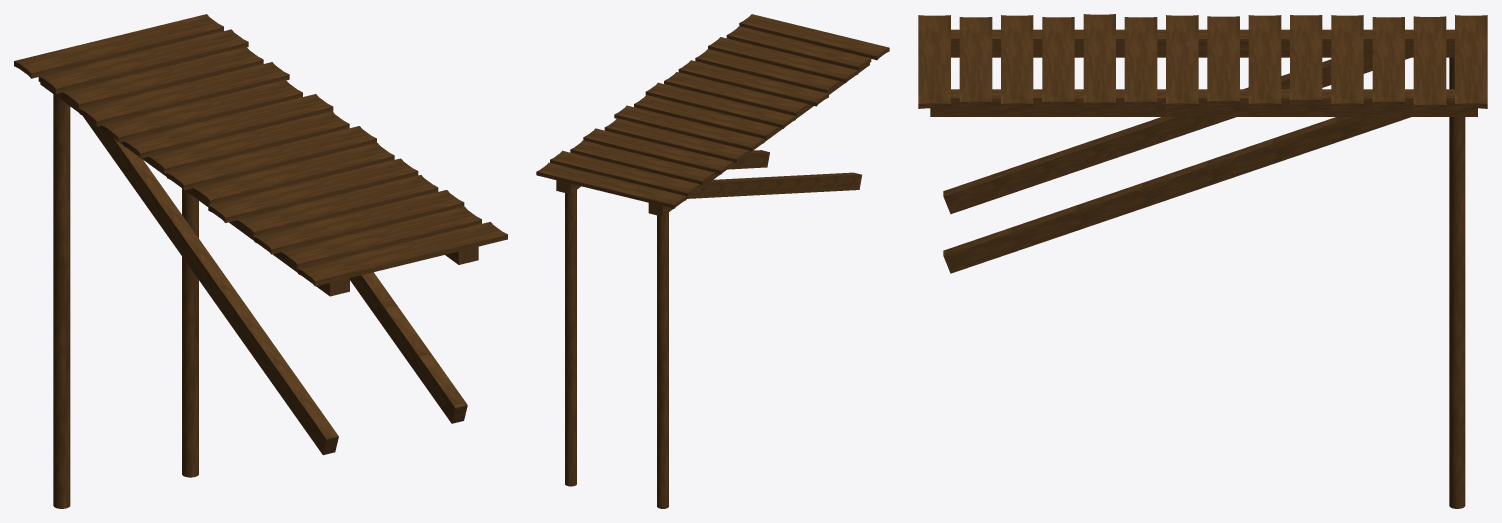
Rendered from Pier.FBX.
The picture shows the model from 3 angles, left to right: view 1: azimuth 30°, elevation 25°; view 2: azimuth 150°, elevation 25°; view 3: azimuth 270°, elevation 25°; orthographic projection. The views are drawn at different scales.
Visible parts, largest first — view 1: Box002, pole, Plank01, Plank10, Plank04, Plank11, Plank12, Plank13, Plank, Plank08, Box006, Plank07 (+7 smaller); view 2: pole001, pole, Box002, Plank, Plank13, Plank11, Plank01, Plank12, Plank10, Plank04, Plank08, Plank09 (+7 smaller); view 3: Box006, Box005, Box002, pole001, Box001, Plank10, Plank04, Plank01, Plank12, Plank13, Plank08, Plank11 (+7 smaller).
Part boxes in pixels (x1,y1,x2,y2): Box002: (83, 116, 338, 455); pole: (53, 94, 70, 508); Plank01: (298, 222, 507, 286); Plank10: (123, 94, 333, 158); Plank04: (38, 29, 248, 93); Plank11: (79, 62, 289, 126); Plank12: (254, 190, 464, 254); Plank13: (208, 158, 418, 222); Plank: (14, 14, 223, 78); Plank08: (167, 126, 376, 190); Box006: (350, 272, 467, 423); Plank07: (236, 175, 438, 237); pole001: (565, 190, 576, 486); pole: (657, 212, 668, 508); Box002: (687, 172, 861, 198); Plank: (536, 162, 686, 208); Plank13: (678, 60, 828, 106); Plank11: (583, 128, 733, 174); Plank01: (739, 14, 889, 60); Plank12: (708, 37, 858, 82); Plank10: (614, 105, 764, 151); Plank04: (550, 150, 700, 196); Plank08: (645, 82, 795, 128); Plank09: (726, 26, 871, 70); Box006: (943, 117, 1410, 273); Box005: (930, 89, 1477, 116); Box002: (943, 57, 1410, 213); pole001: (1449, 117, 1465, 508); Box001: (951, 29, 1454, 57); Plank10: (1248, 15, 1281, 108); Plank04: (1413, 16, 1446, 110); Plank01: (918, 15, 950, 108); Plank12: (1001, 15, 1033, 108); Plank13: (1083, 14, 1115, 107); Plank08: (1166, 15, 1198, 108); Plank11: (1331, 15, 1363, 108).
Bounding box in the file's own units: 78.54 × 167 × 207.
Materials: 1 (1 with a texture image).
